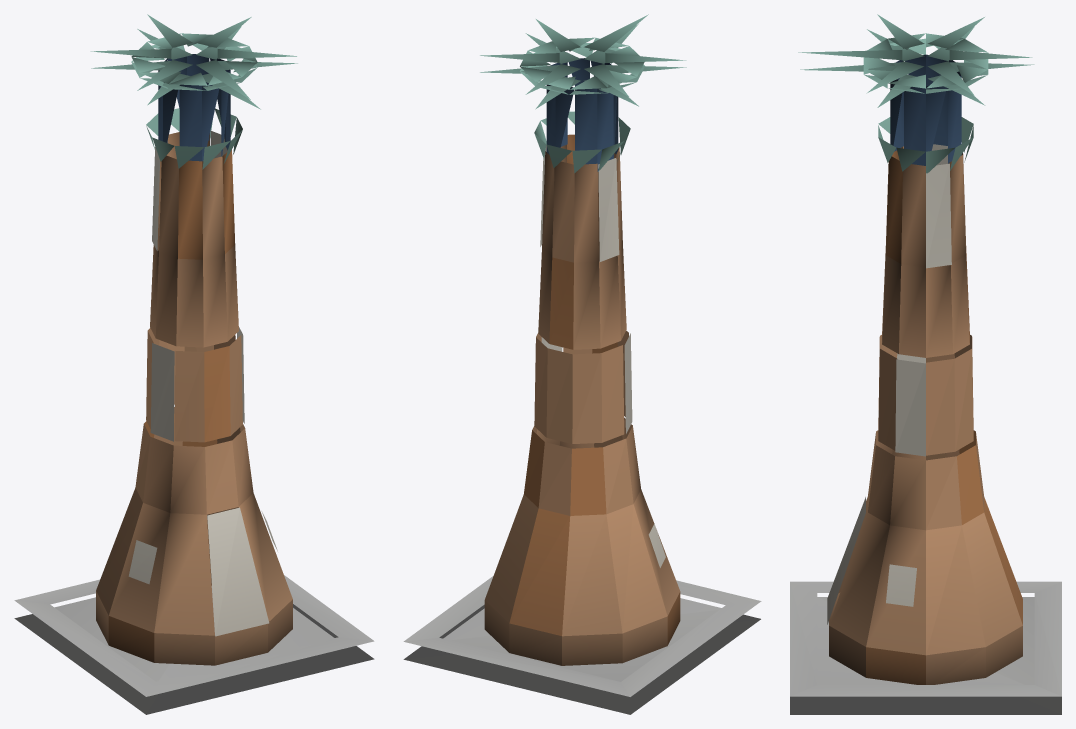
File: chimney.lod.glb
3 views of the same model, side by side, from view 1: azimuth 30°, elevation 25°; view 2: azimuth 150°, elevation 25°; view 3: azimuth 270°, elevation 25° (orthographic). The views are drawn at different scales.
Visible parts, largest first — view 1: chimney; view 2: chimney; view 3: chimney.
Part boxes in pixels (bbox=[...]): chimney: bbox=[14, 14, 374, 714]; chimney: bbox=[403, 14, 761, 714]; chimney: bbox=[790, 14, 1061, 714].
Bounding box in the file's own units: 1.6 × 3.91 × 1.6.
